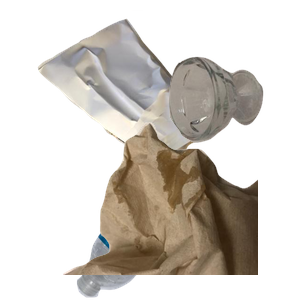glass: (166, 54, 300, 189)
paper: (35, 10, 237, 178)
plastic: (74, 156, 280, 300)
trash: (60, 120, 300, 300)
